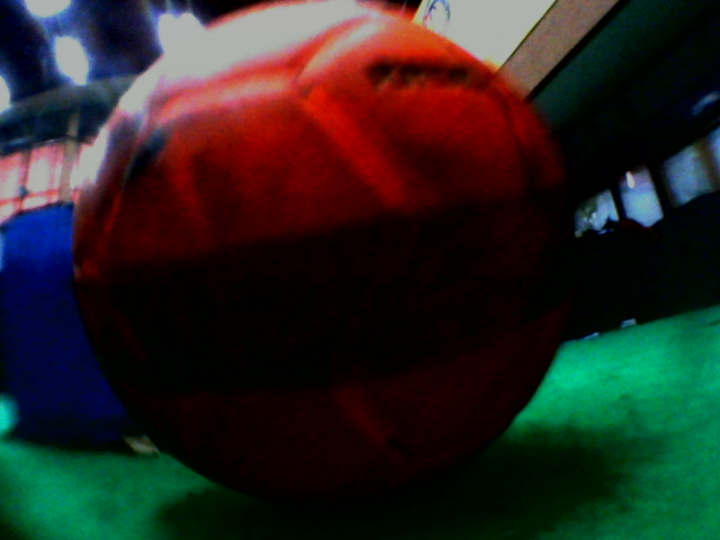bola: (51, 1, 620, 523)
